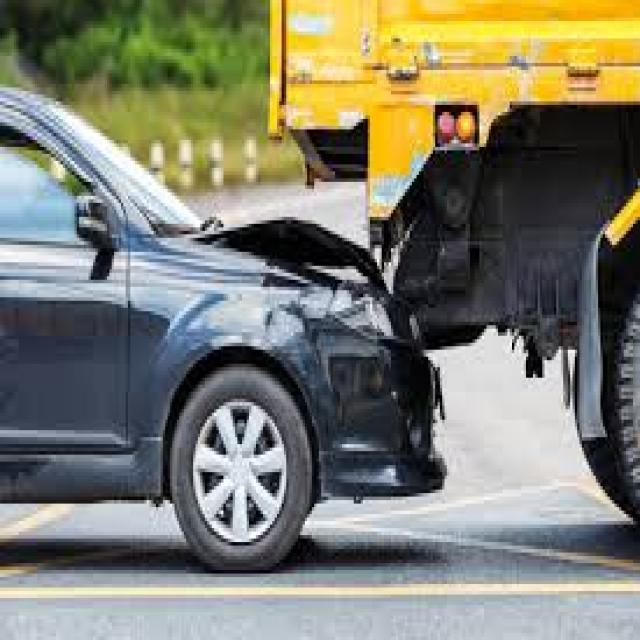accident: (0, 4, 638, 532)
